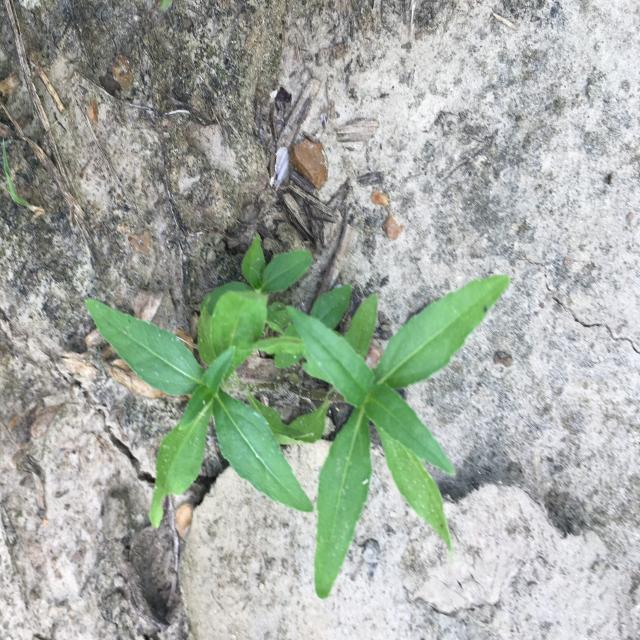Eclipta: (84, 232, 510, 600)
